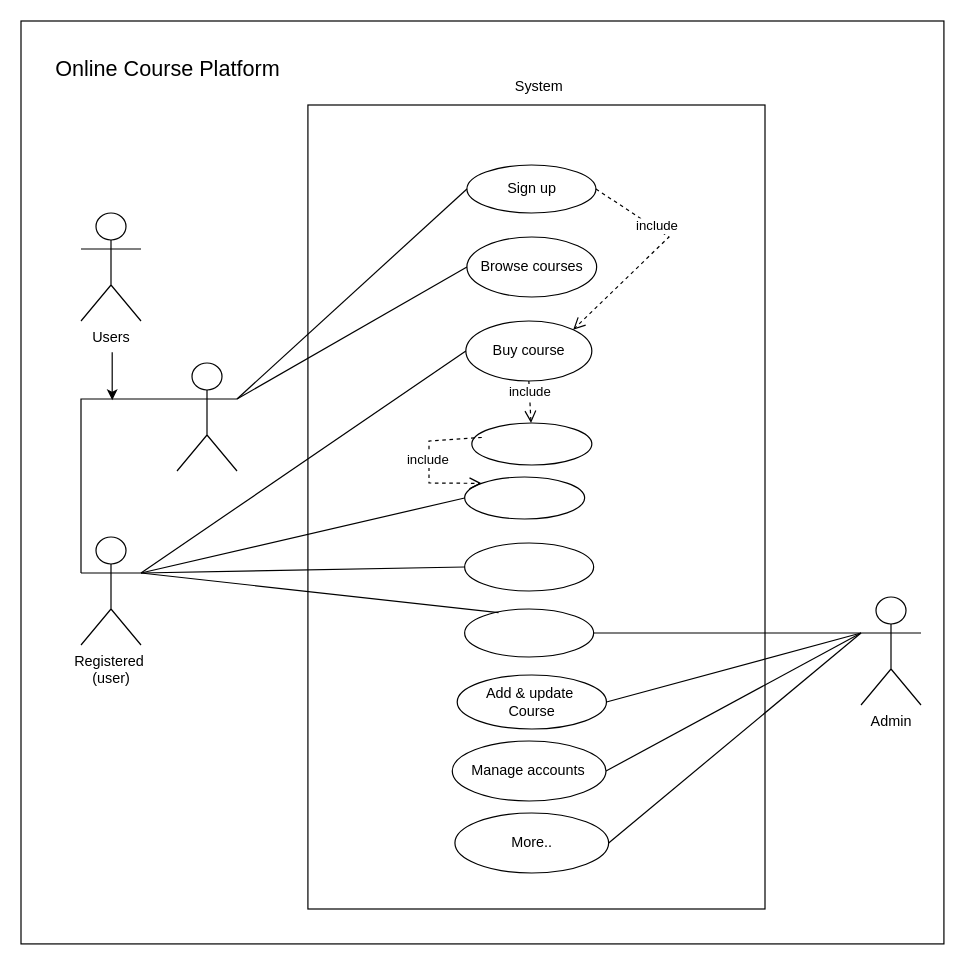
Some shapes in this 966 by 966 pixel diagram are drawn without their labels. Here are the shapes that lost their labels. From the top down, the box of each, then its label:
(176, 362, 237, 471): Guest (user)
(471, 422, 592, 465): Payment
(463, 476, 585, 519): Cancel
(463, 542, 594, 591): Profile Manage
(463, 608, 594, 657): Login
